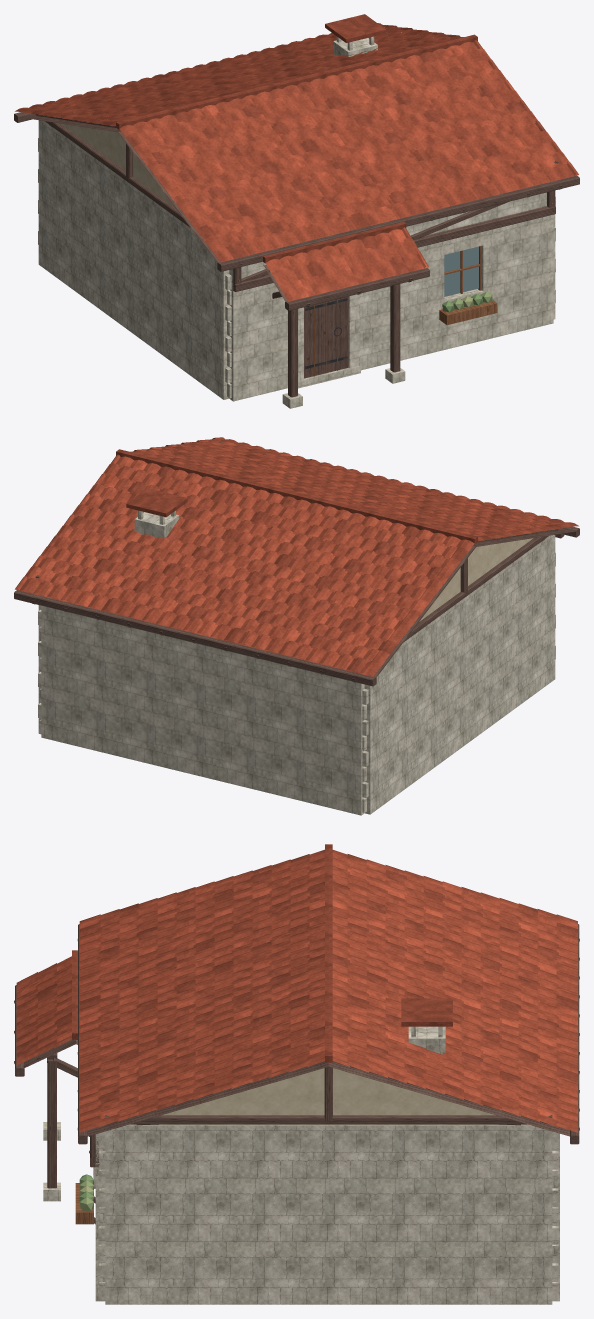
Rendered from B09_vivienda.glb.
3 renders of one model, top to bottom at view 1: azimuth 30°, elevation 25°; view 2: azimuth 150°, elevation 25°; view 3: azimuth 270°, elevation 25°, orthographic. The views are drawn at different scales.
Visible parts, largest first — view 1: AUR034_B09_clay_tiles, AUR034_B09_lower_masonry, AUR034_B09_porch_clay_tiles, AUR034_B09_entry_leaf0, AUR034_B09_fascia-1, AUR034_B09_ridge, AUR034_B09_sill, AUR034_B09_gable-1, AUR034_B09_porch_fascia-1, AUR034_B09_window0_glazing, AUR034_B09_gable_tie-1, AUR034_B09_cowl (+10 smaller); view 2: AUR034_B09_lower_masonry, AUR034_B09_clay_tiles, AUR034_B09_fascia1, AUR034_B09_ridge, AUR034_B09_gable-1, AUR034_B09_gable_tie-1, AUR034_B09_dressed_corner_stones, AUR034_B09_cowl, AUR034_B09_roof_sheathing, AUR034_B09_chimney; view 3: AUR034_B09_clay_tiles, AUR034_B09_lower_masonry, AUR034_B09_gable1, AUR034_B09_porch_clay_tiles, AUR034_B09_gable_tie1, AUR034_B09_roof_sheathing, AUR034_B09_dressed_corner_stones, AUR034_B09_ridge, AUR034_B09_cowl, AUR034_B09_porch_post1, AUR034_B09_chimney.
Boxes of the visible parts, bbox=[...] form: AUR034_B09_clay_tiles: bbox=[15, 23, 578, 262]; AUR034_B09_lower_masonry: bbox=[38, 120, 555, 401]; AUR034_B09_porch_clay_tiles: bbox=[265, 227, 428, 301]; AUR034_B09_entry_leaf0: bbox=[304, 296, 348, 378]; AUR034_B09_fascia-1: bbox=[217, 175, 579, 271]; AUR034_B09_ridge: bbox=[116, 34, 477, 129]; AUR034_B09_sill: bbox=[233, 206, 555, 291]; AUR034_B09_gable-1: bbox=[61, 112, 174, 206]; AUR034_B09_porch_fascia-1: bbox=[285, 268, 429, 310]; AUR034_B09_window0_glazing: bbox=[444, 246, 478, 296]; AUR034_B09_gable_tie-1: bbox=[35, 114, 190, 227]; AUR034_B09_cowl: bbox=[325, 14, 386, 42]; AUR034_B09_lower_masonry: bbox=[38, 535, 555, 815]; AUR034_B09_clay_tiles: bbox=[15, 437, 578, 676]; AUR034_B09_fascia1: bbox=[14, 590, 376, 686]; AUR034_B09_ridge: bbox=[116, 449, 477, 544]; AUR034_B09_gable-1: bbox=[419, 538, 532, 621]; AUR034_B09_gable_tie-1: bbox=[403, 529, 557, 642]; AUR034_B09_dressed_corner_stones: bbox=[38, 552, 555, 812]; AUR034_B09_cowl: bbox=[126, 488, 187, 517]; AUR034_B09_roof_sheathing: bbox=[261, 460, 574, 677]; AUR034_B09_chimney: bbox=[134, 512, 179, 538]; AUR034_B09_clay_tiles: bbox=[79, 849, 577, 1132]; AUR034_B09_lower_masonry: bbox=[95, 1125, 559, 1304]; AUR034_B09_gable1: bbox=[127, 1068, 529, 1125]; AUR034_B09_porch_clay_tiles: bbox=[16, 956, 71, 1065]; AUR034_B09_gable_tie1: bbox=[105, 1115, 552, 1124]; AUR034_B09_roof_sheathing: bbox=[87, 1062, 569, 1136]; AUR034_B09_dressed_corner_stones: bbox=[99, 1151, 558, 1299]; AUR034_B09_ridge: bbox=[325, 844, 332, 1062]; AUR034_B09_cowl: bbox=[401, 998, 452, 1026]; AUR034_B09_porch_post1: bbox=[47, 1059, 56, 1188]; AUR034_B09_chimney: bbox=[408, 1026, 445, 1054].
Size of the model in its own units: 8.96 by 5.11 by 10.13.
Materials: 12 (8 with a texture image).
